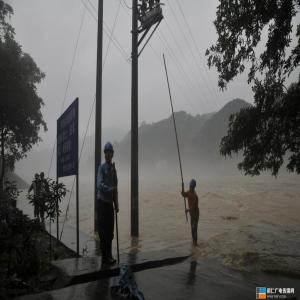blue: (104, 142, 115, 163), (190, 180, 197, 193)
